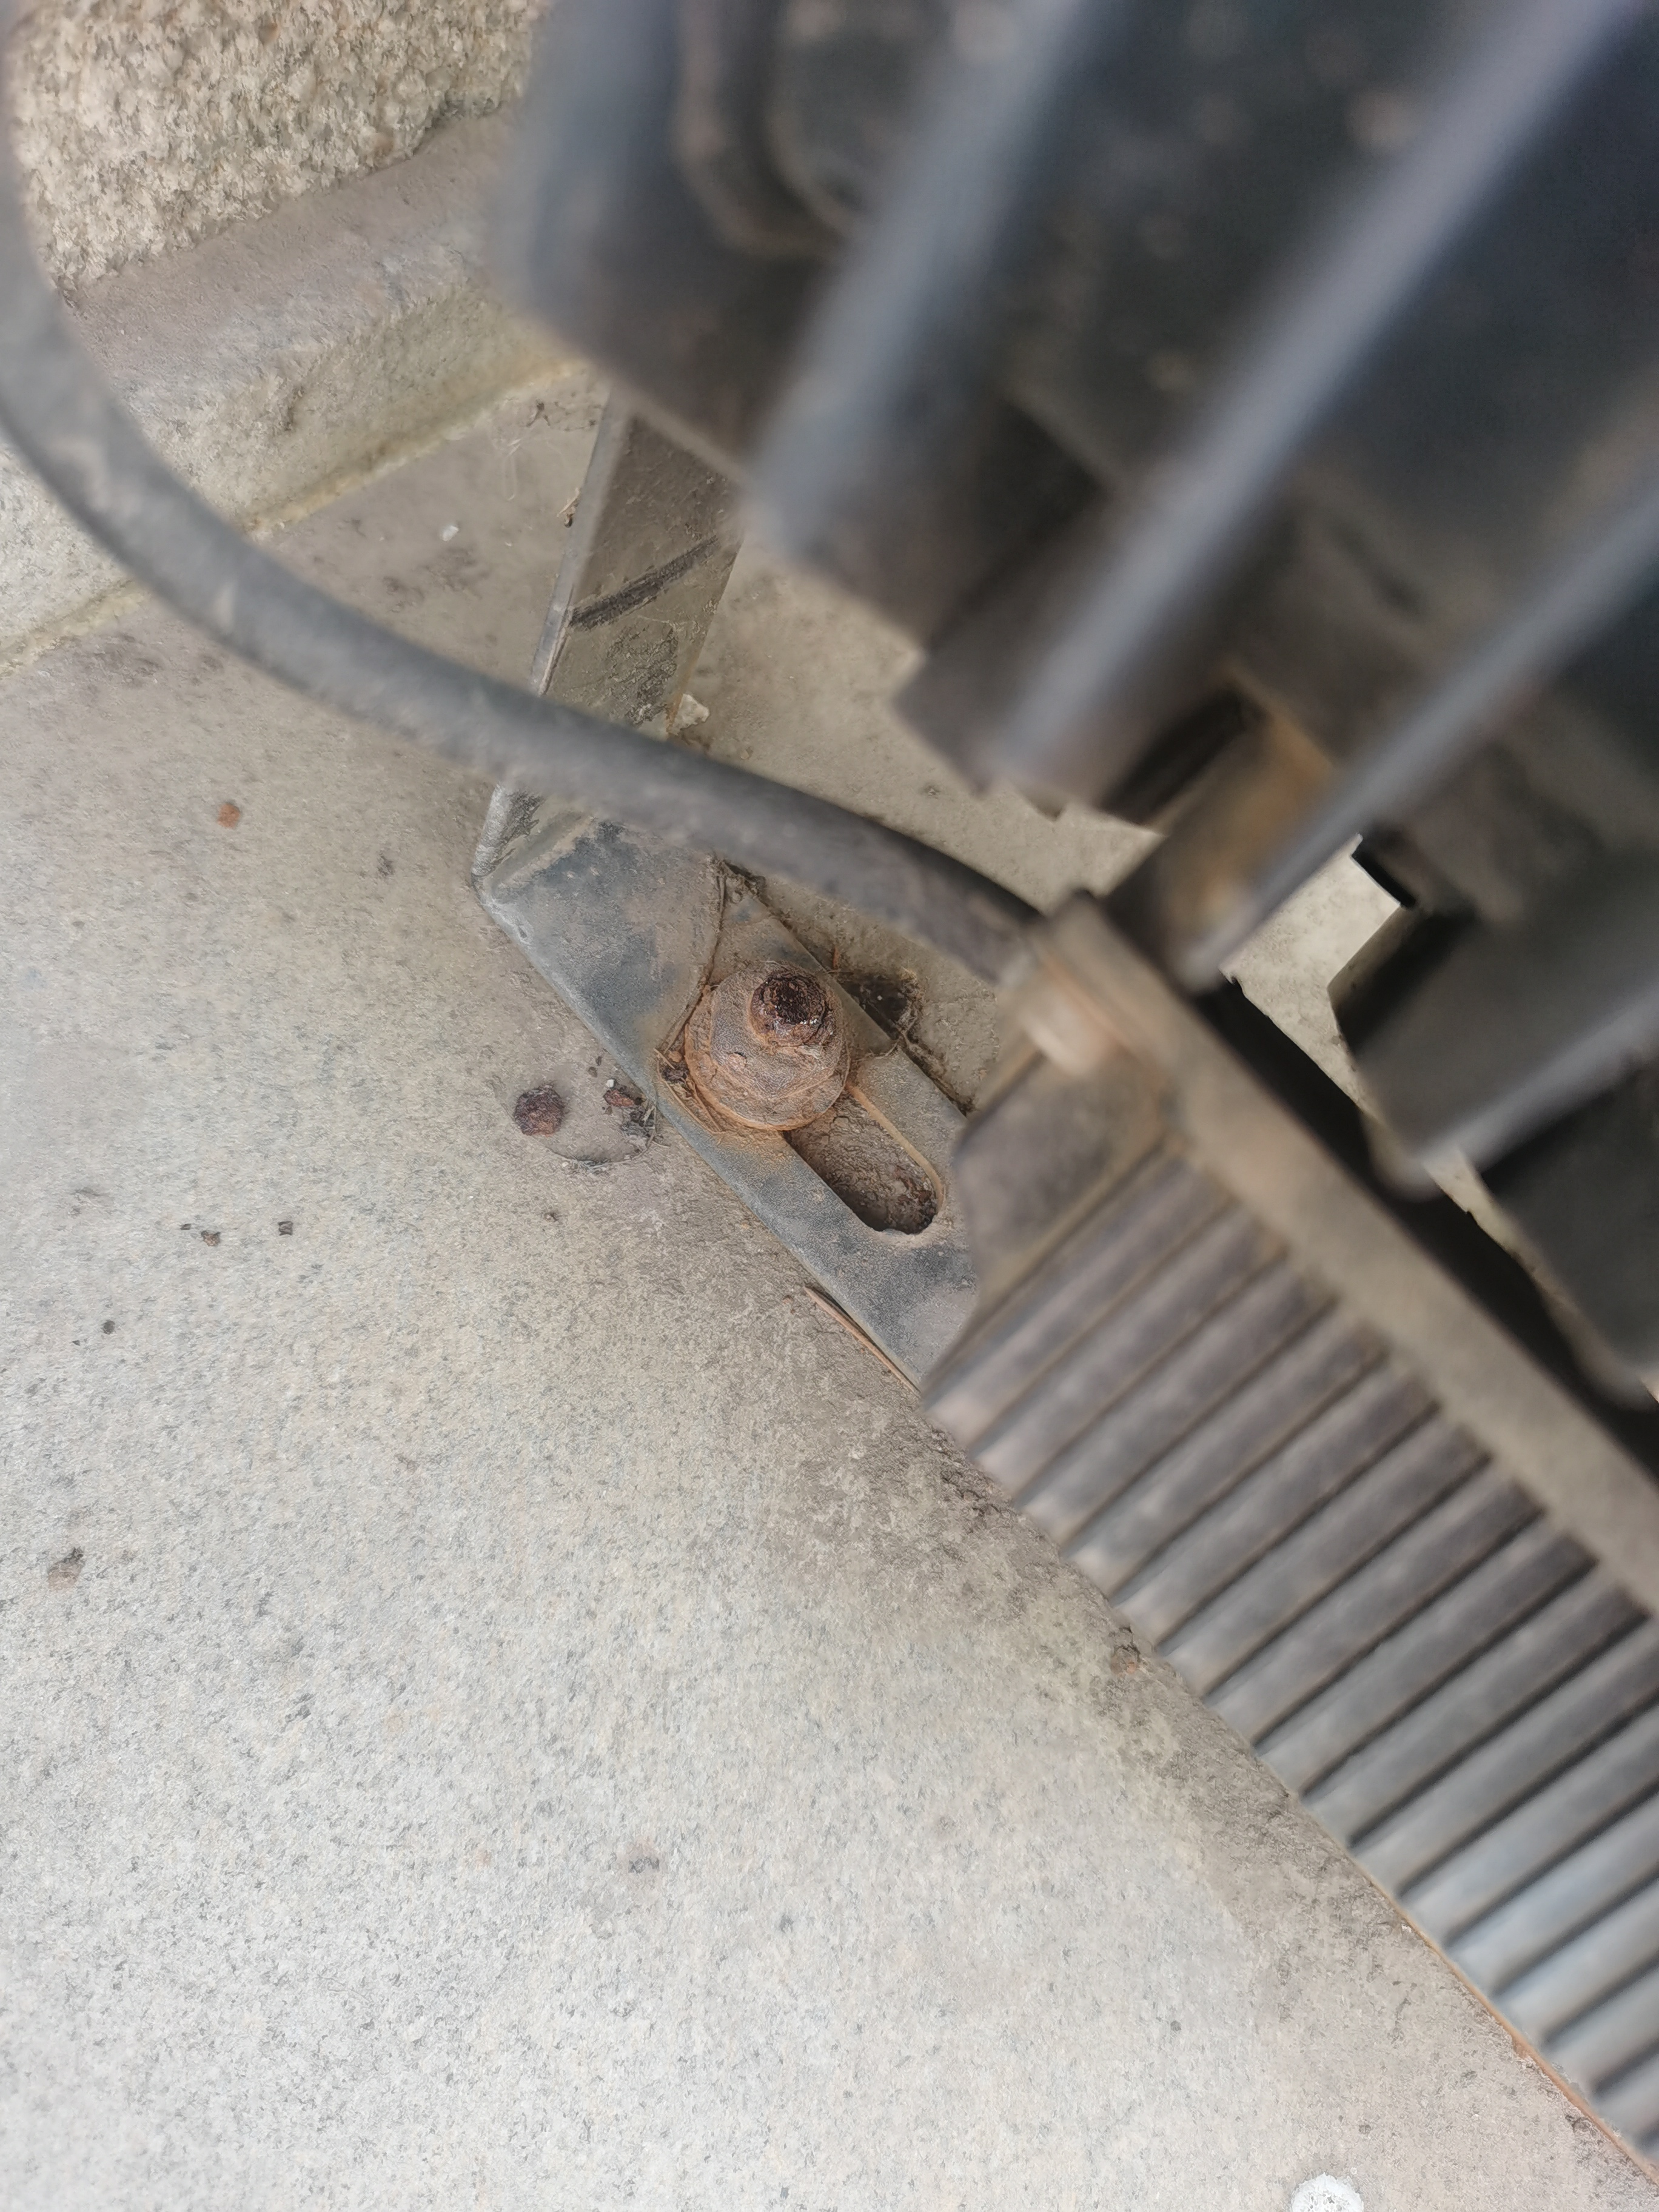bolt_b: (701, 946, 856, 1108)
